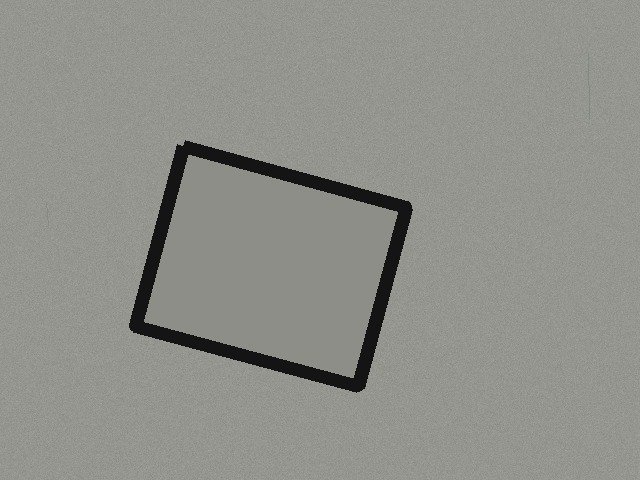parking_area: (135, 146, 406, 386)
